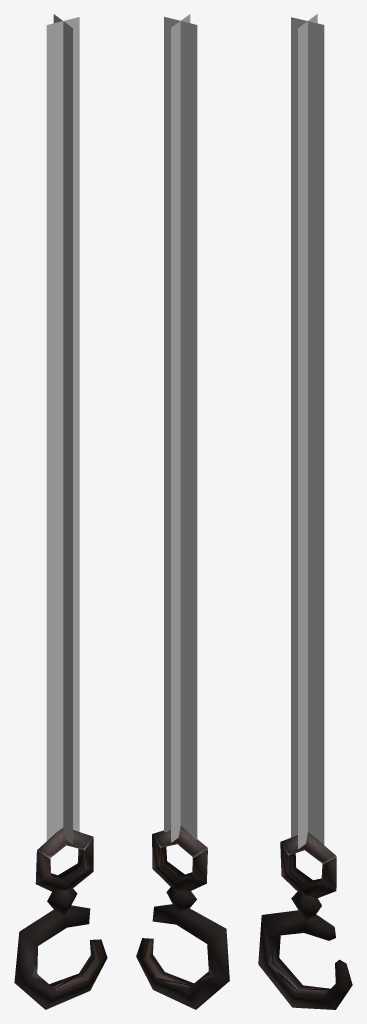
The model's file is 2_DXSD_DiaoDingTieLianZhi_01.FBX.
3 renders of one model, left to right at view 1: azimuth 30°, elevation 25°; view 2: azimuth 150°, elevation 25°; view 3: azimuth 330°, elevation 25°, orthographic.
Parts seen in each view (by area): view 1: 2_DXSD_DiaoDingTieLianZhi_01, 2_DXSD_DiaoDingTieLianZhi_02; view 2: 2_DXSD_DiaoDingTieLianZhi_01, 2_DXSD_DiaoDingTieLianZhi_02; view 3: 2_DXSD_DiaoDingTieLianZhi_01, 2_DXSD_DiaoDingTieLianZhi_02.
Boxes of the visible parts, x1,y1,x2,y2 form: 2_DXSD_DiaoDingTieLianZhi_01: [46, 14, 79, 844]; 2_DXSD_DiaoDingTieLianZhi_02: [14, 828, 107, 1009]; 2_DXSD_DiaoDingTieLianZhi_01: [164, 14, 197, 842]; 2_DXSD_DiaoDingTieLianZhi_02: [136, 825, 229, 1009]; 2_DXSD_DiaoDingTieLianZhi_01: [291, 14, 324, 849]; 2_DXSD_DiaoDingTieLianZhi_02: [258, 832, 352, 1009].
Size of the model in its own units: 102 by 1027 by 36.
